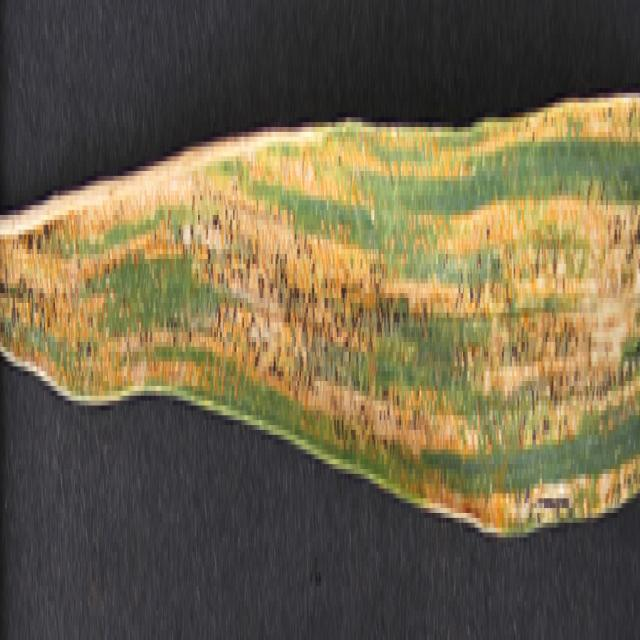leaf rust: (1, 112, 640, 523)
